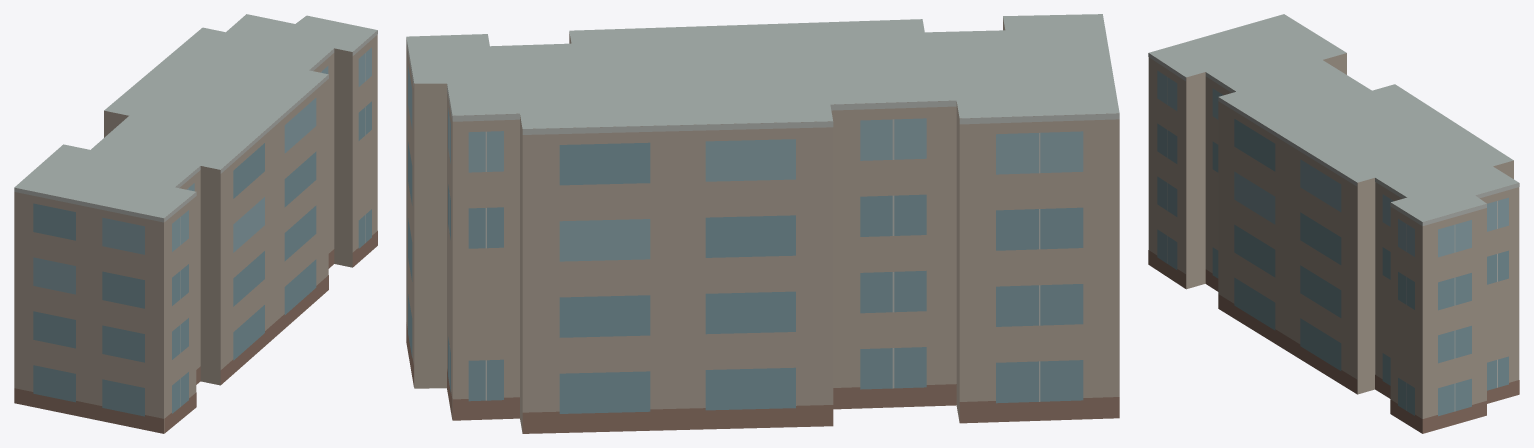
Rendered from survey-upis-32724188.glb.
3 views of the same model, side by side, from view 1: azimuth 30°, elevation 25°; view 2: azimuth 150°, elevation 25°; view 3: azimuth 270°, elevation 25° (orthographic). The views are drawn at different scales.
Visible parts, largest first — view 1: survey-upis-32724188.tmp; view 2: survey-upis-32724188.tmp; view 3: survey-upis-32724188.tmp.
Part boxes in pixels (x1,y1,x2,y2): survey-upis-32724188.tmp: (14, 14, 377, 433); survey-upis-32724188.tmp: (406, 14, 1119, 433); survey-upis-32724188.tmp: (1148, 14, 1519, 433).
Size of the model in its own units: 26.13 by 12.4 by 19.69.
